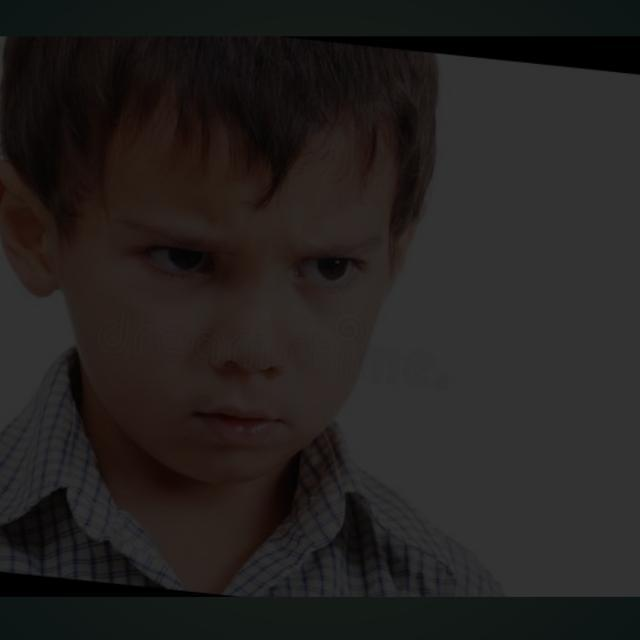Angry: (59, 96, 438, 481)
